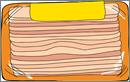bacon: (19, 27, 107, 62)
